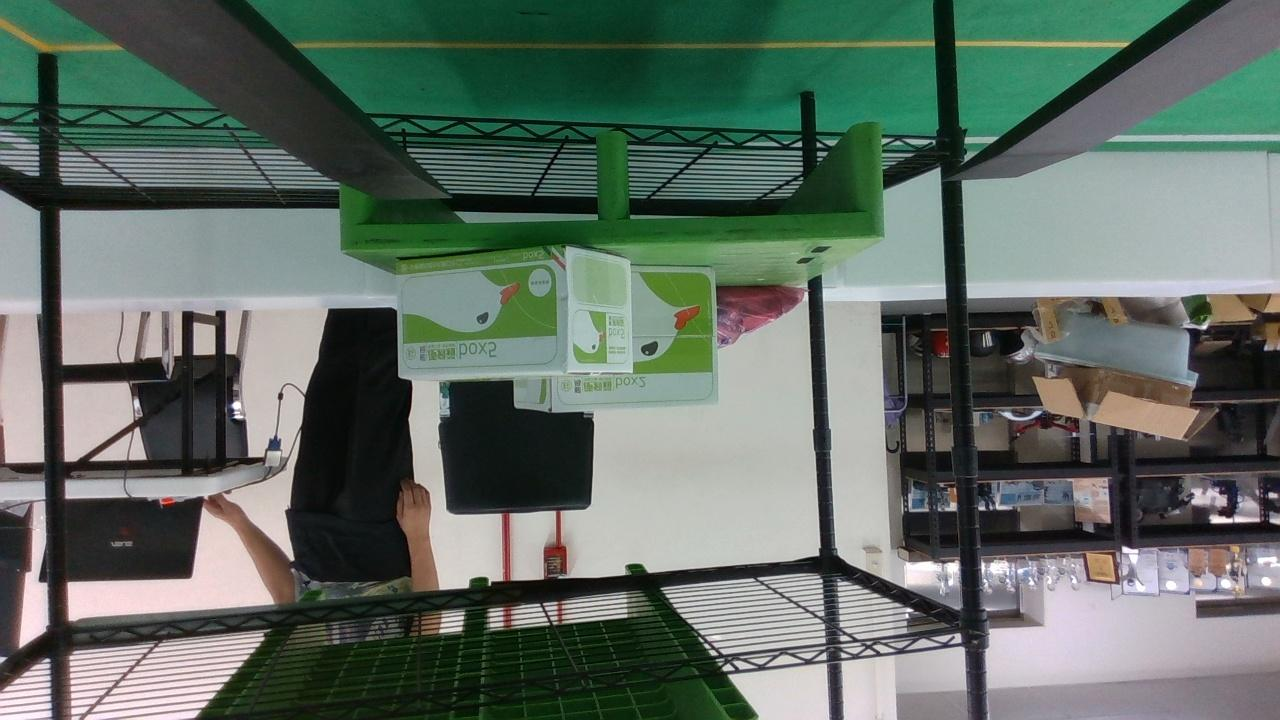Pallet: (339, 116, 880, 251)
